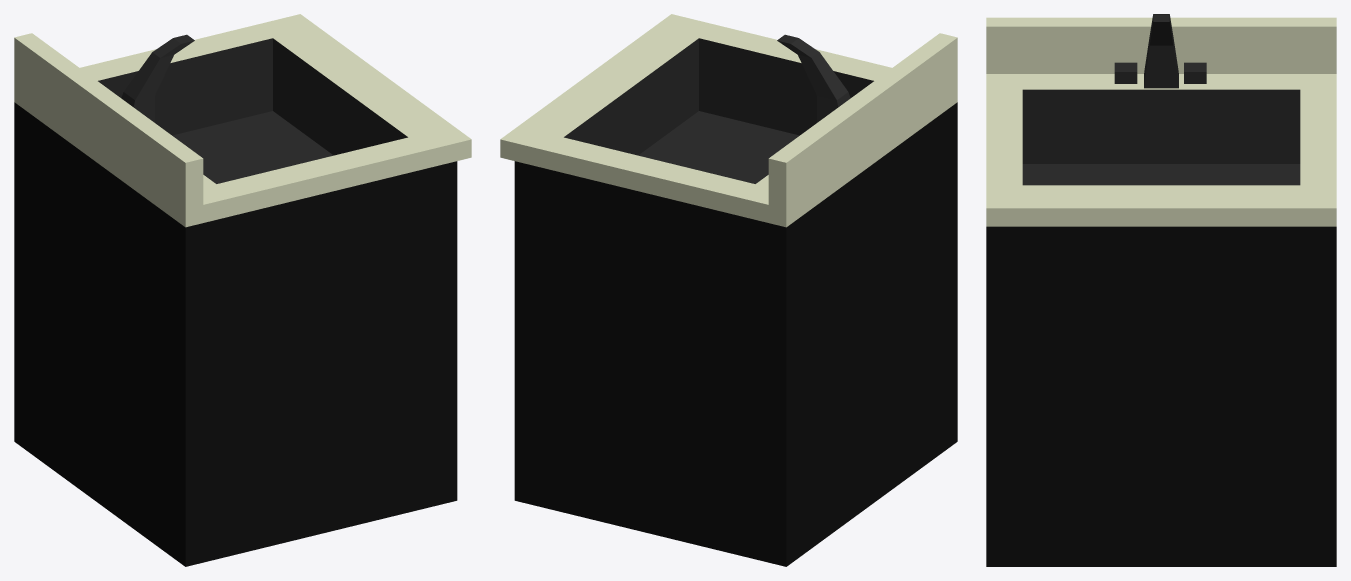
File: Sink.fbx
3 renders of one model, left to right at view 1: azimuth 30°, elevation 25°; view 2: azimuth 150°, elevation 25°; view 3: azimuth 270°, elevation 25°, orthographic. The views are drawn at different scales.
Visible parts, largest first — view 1: Sink; view 2: Sink; view 3: Sink.
Boxes of the visible parts, x1,y1,x2,y2 form: Sink: (14,14,471,566); Sink: (500,14,957,566); Sink: (986,14,1336,566).
Size of the model in its own units: 78.72 by 117 by 81.6.
